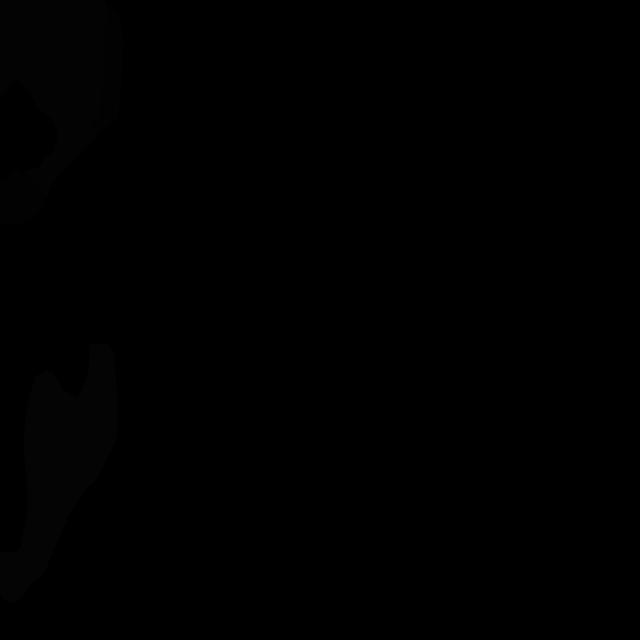cardboard: (91, 6, 124, 135), (0, 168, 46, 225)
soft_plastic: (0, 343, 118, 603)
